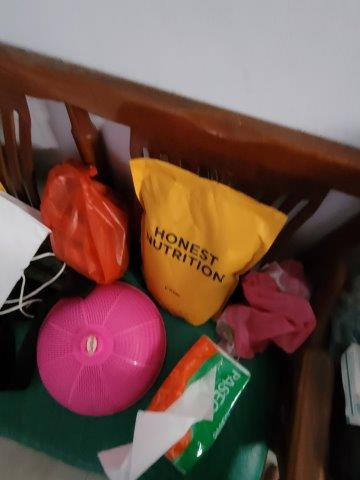plastik: (38, 166, 134, 285)
